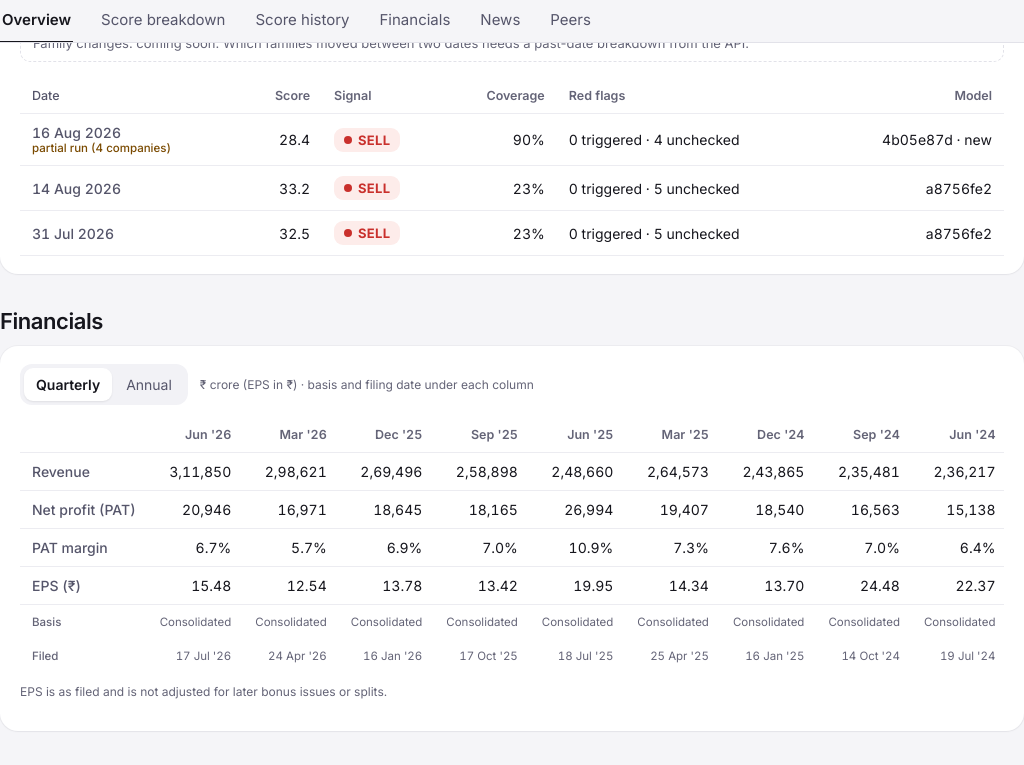
Test case: RELIANCE lower sections › financials: quarterly then annual, with gaps marked
The width and height of the screenshot is (1024, 765).
(page scrolled)
Expected: the column heading "Jun '26" is shown, [148, 417, 243, 453]
Click the button "Annual".
click(149, 385)  # box [114, 368, 184, 401]
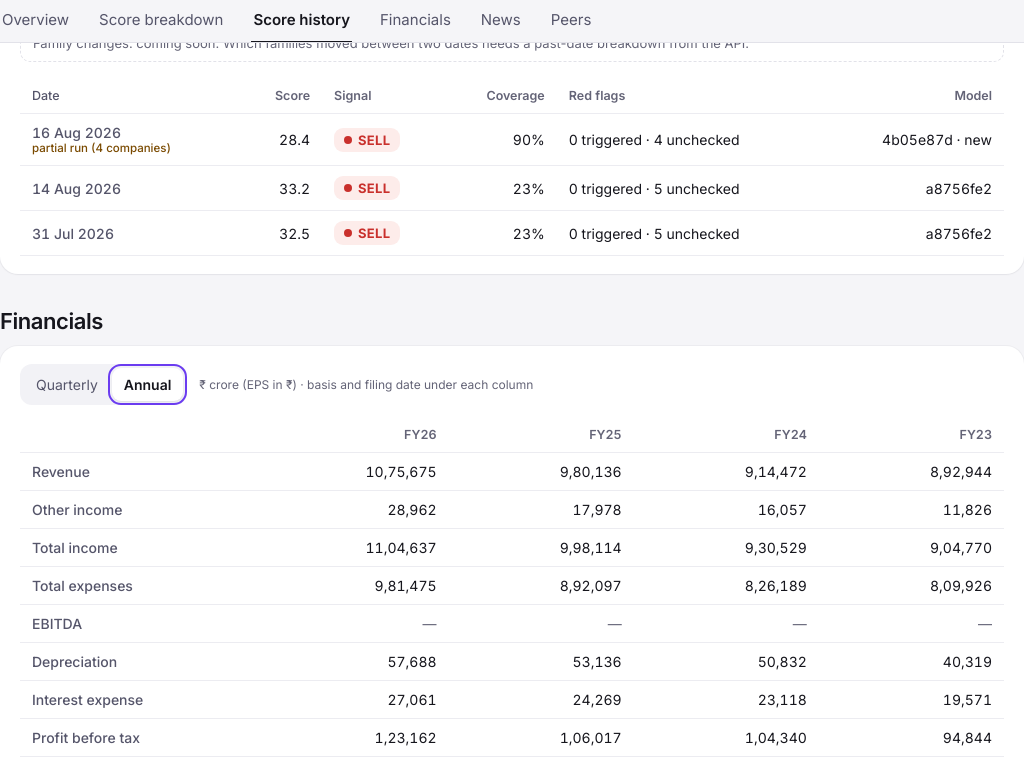
Result: the text "10,75,675" is shown at [263, 453, 448, 491]
Result: the column heading "FY26" is shown at [263, 417, 448, 453]
Result: the 1st text titled "Not in the filing" is shown at [423, 615, 437, 632]
